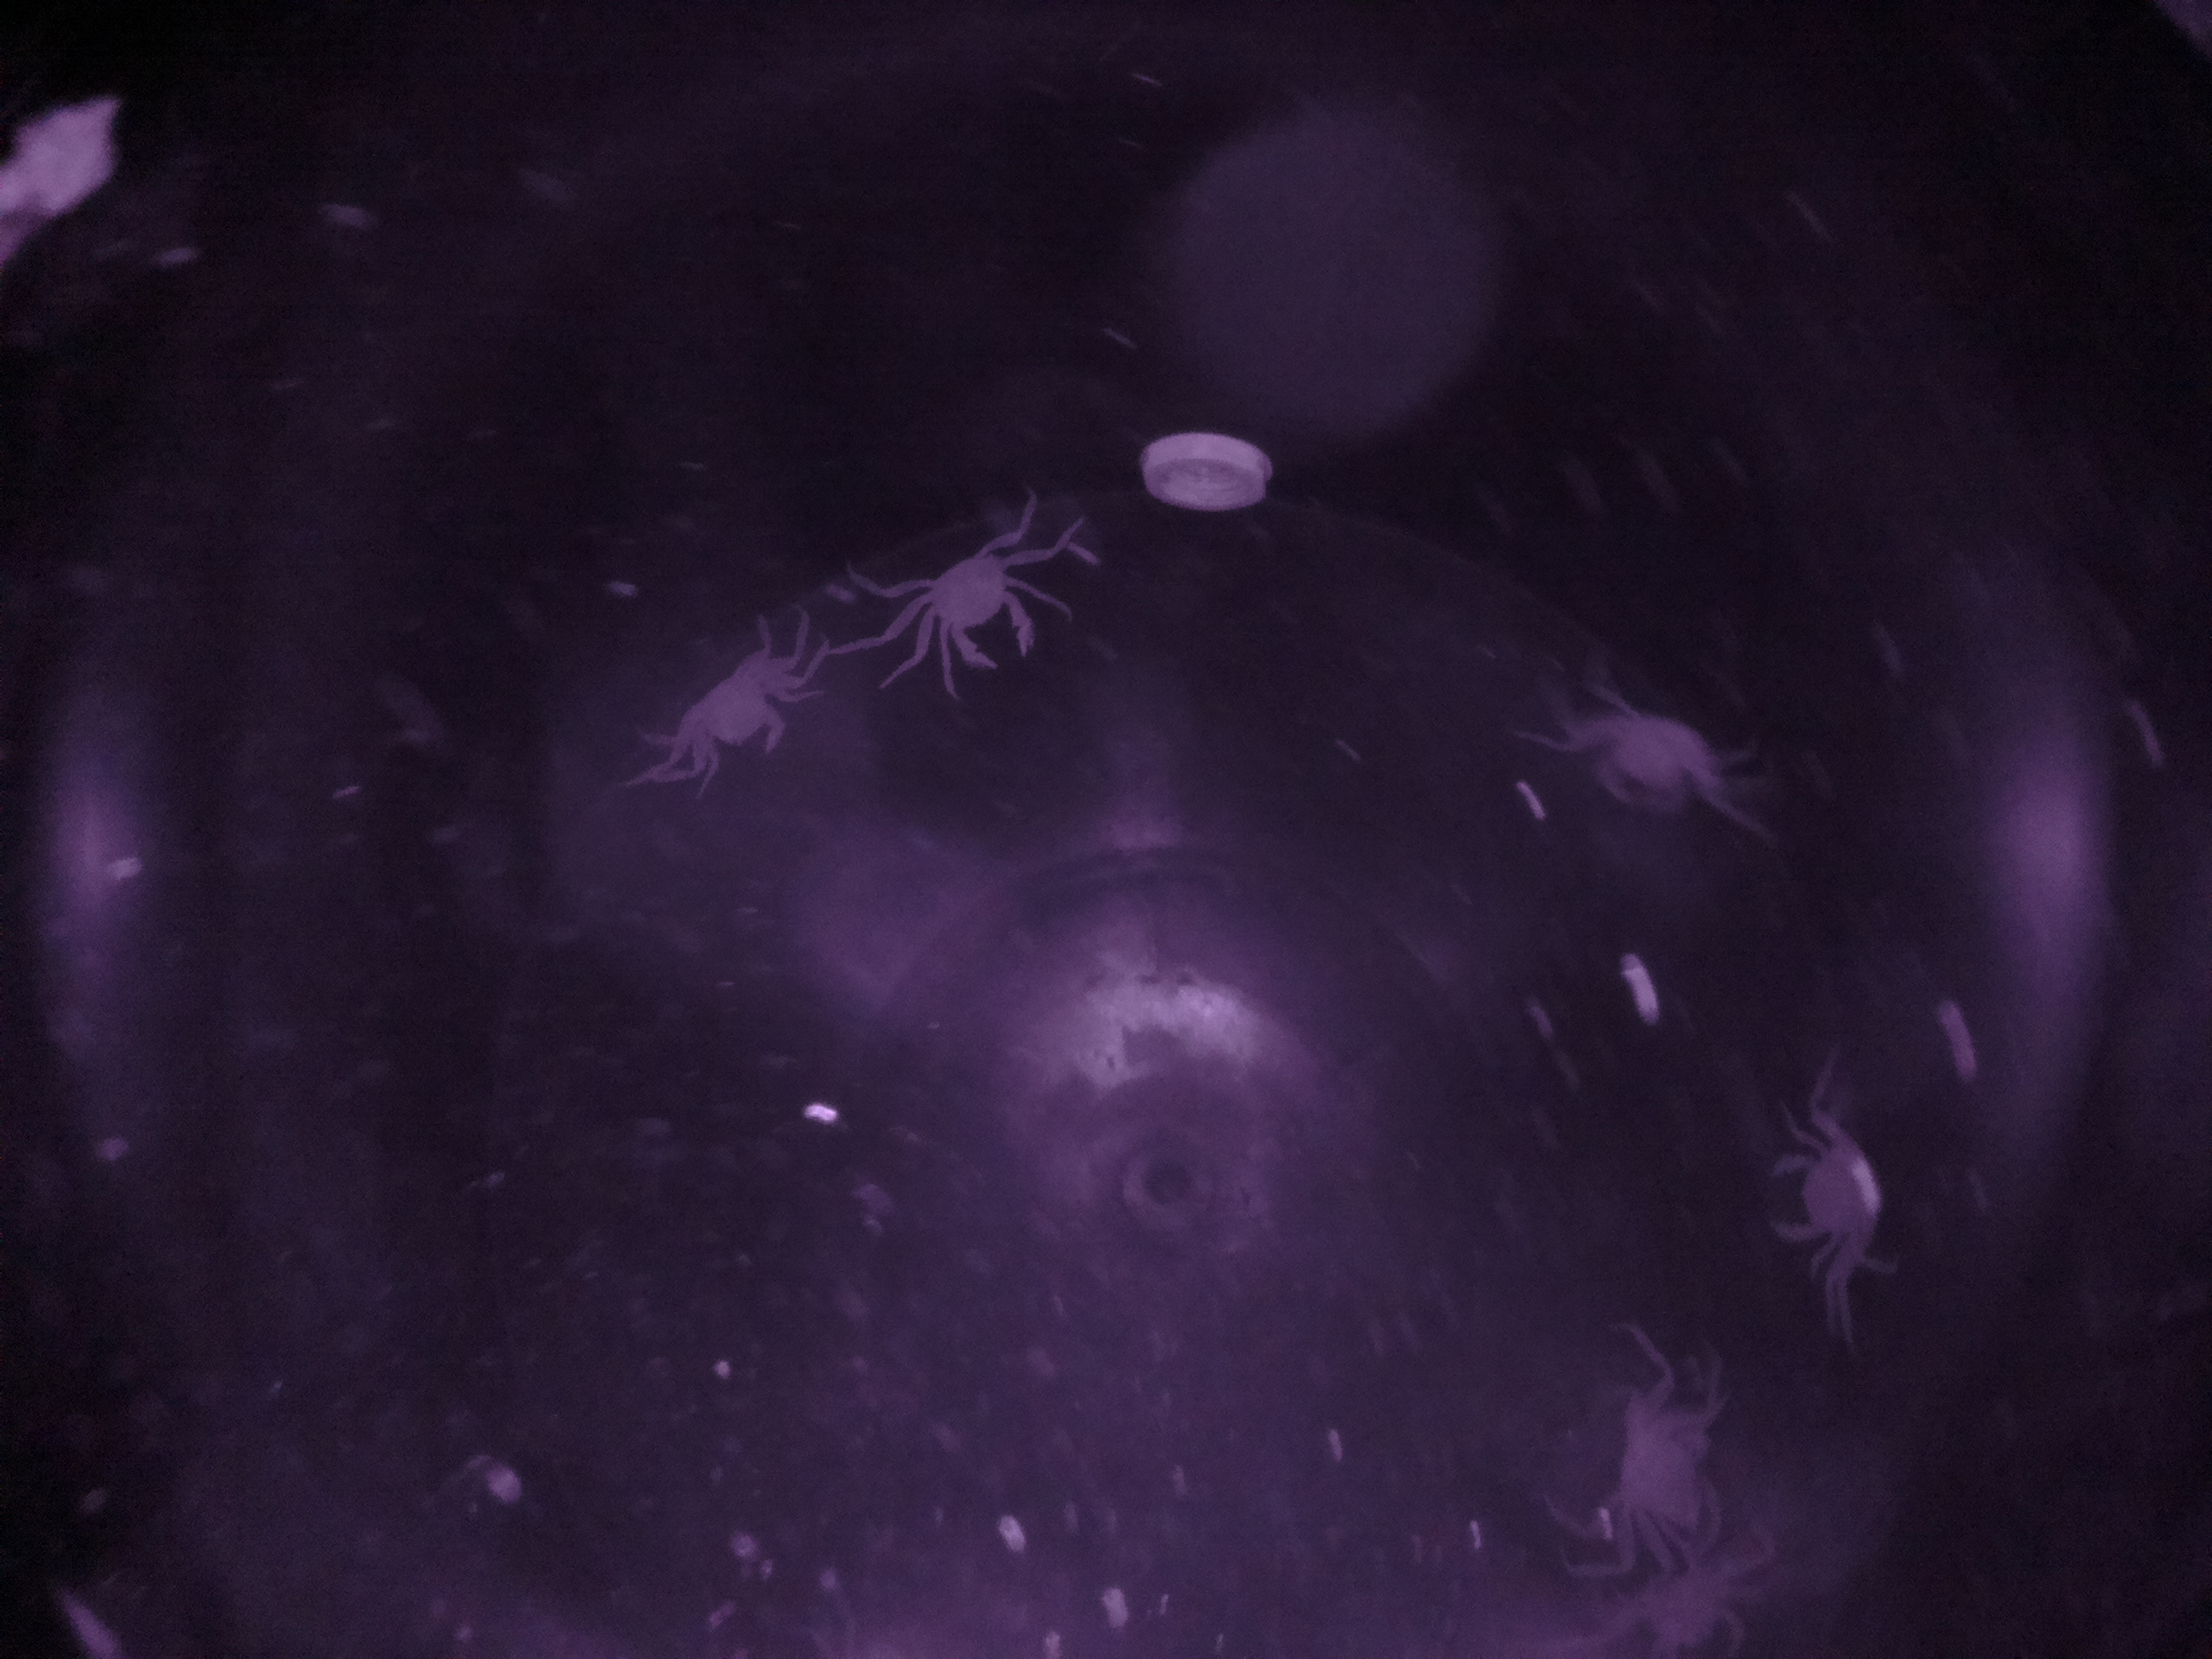Crab: (1743, 1098, 1914, 1288), (894, 514, 1057, 701), (653, 617, 813, 781)
